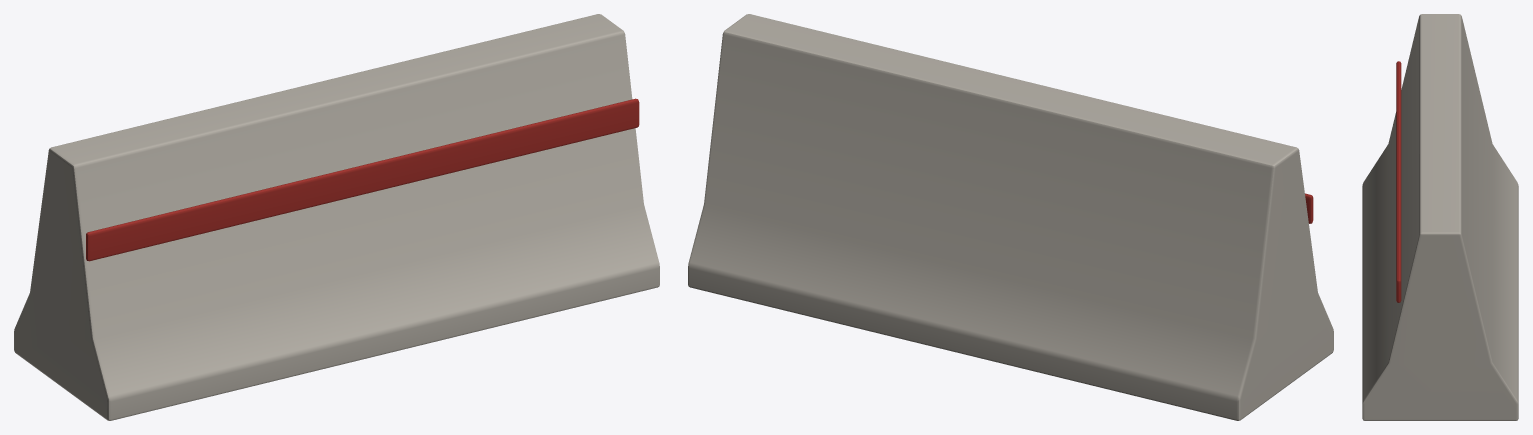
File: prop_barrier_jersey.glb
The picture shows the model from 3 angles, left to right: view 1: azimuth 30°, elevation 25°; view 2: azimuth 150°, elevation 25°; view 3: azimuth 270°, elevation 25°; orthographic projection. The views are drawn at different scales.
Parts seen in each view (by area): view 1: Barrier; view 2: Barrier; view 3: Barrier.
Boxes of the visible parts, box(x1,y1,x2,y2) form: Barrier: box(14, 14, 659, 420); Barrier: box(688, 14, 1333, 420); Barrier: box(1362, 14, 1518, 420).
Size of what is drawn, in the model's own units: 2 by 0.8 by 0.6.
